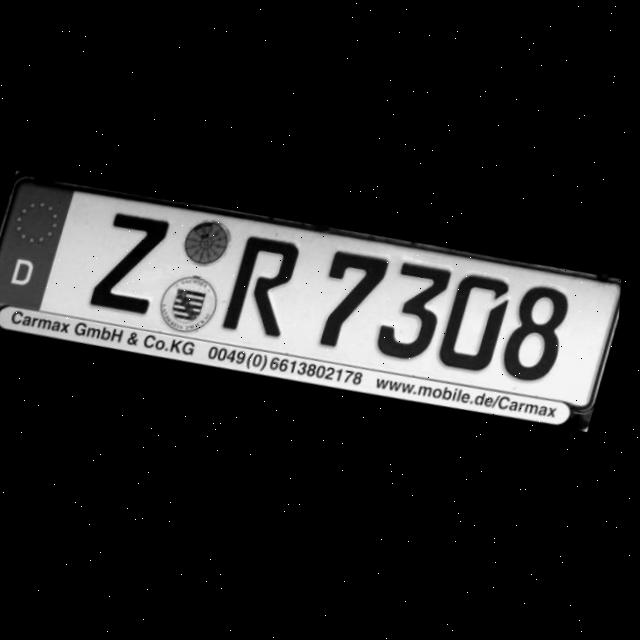license-plates: (0, 175, 621, 429)
